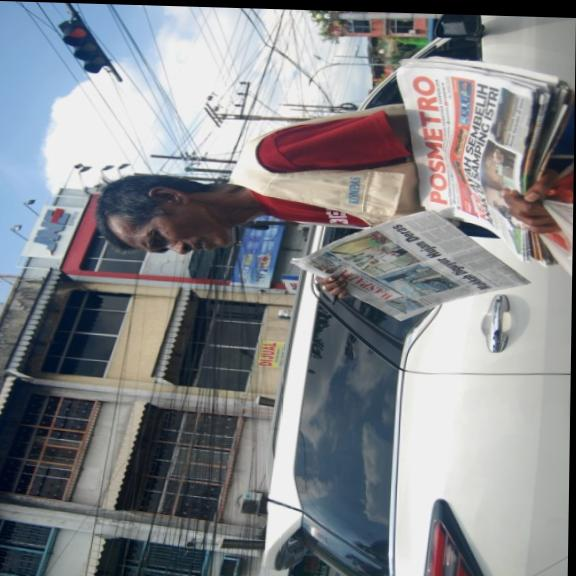Kertas: (282, 203, 536, 331), (391, 54, 557, 241)
